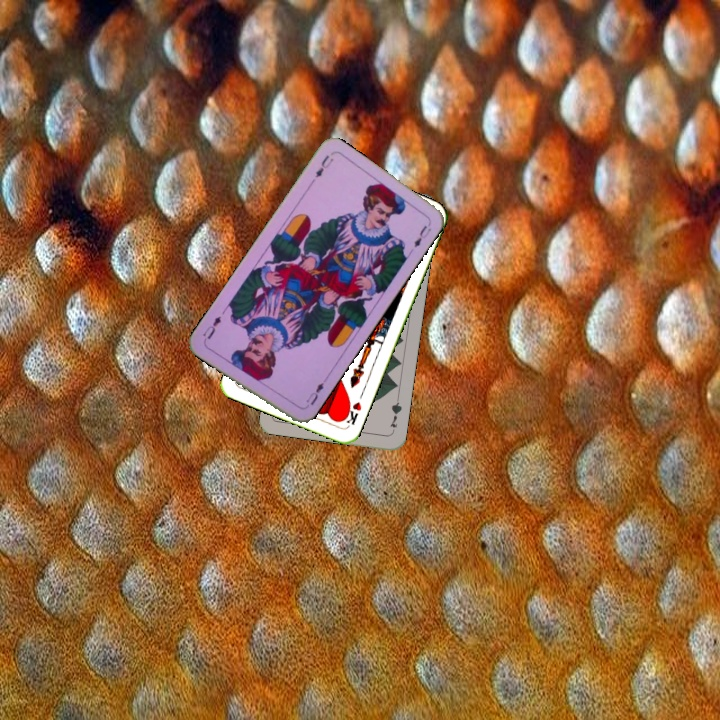EU: (301, 378, 326, 411), (311, 151, 336, 180)
G7: (386, 394, 404, 435)
HK: (339, 398, 364, 429)
